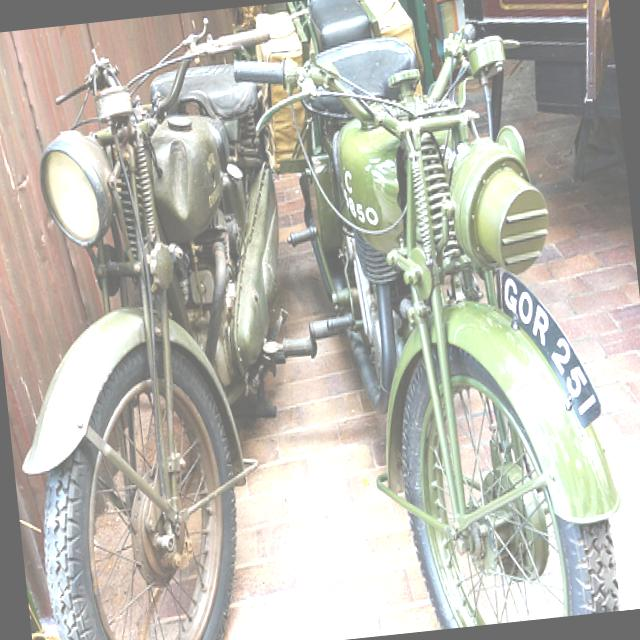Vehicle: (228, 0, 627, 640), (0, 37, 346, 640)
